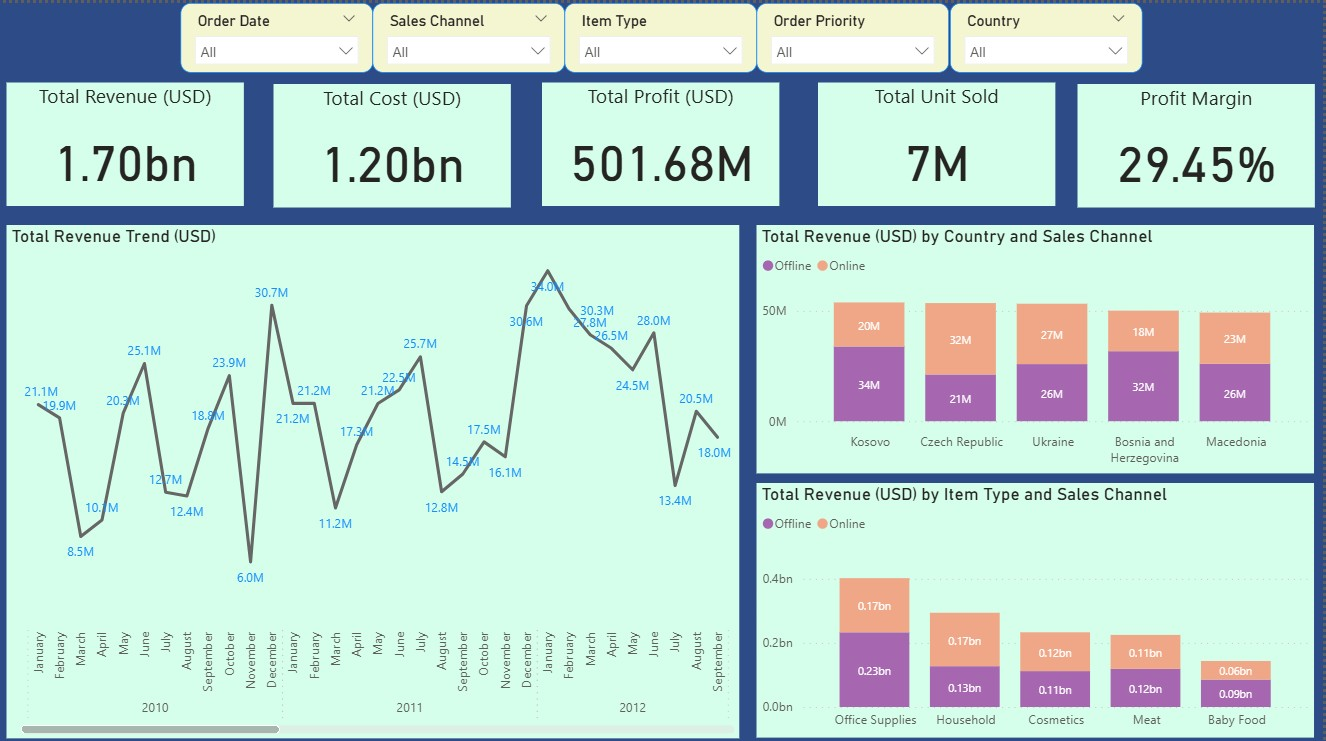

The dashboard page shown, as its layout file describes it:
{"tool":"powerbi","page":{"name":"Sales Overview","canvas":[1280,720],"ordinal":0},"visuals":[{"type":"lineChart","title":"Total Revenue Trend (USD)","fields":{"Category":["DateTable.Year","DateTable.Month Name"],"Y":["Sum(Europe Sales Records.Total Revenue)"]},"box":[7.8,214,708.1,496],"z":0},{"type":"slicer","fields":{"Values":["Europe Sales Records.Country"]},"box":[918.2,0,185.8,67.1],"z":1000},{"type":"slicer","fields":{"Values":["Europe Sales Records.Order Priority"]},"box":[732.4,0,185.8,67.1],"z":2000},{"type":"slicer","fields":{"Values":["DateTable.Date.Variation.Date Hierarchy.Year","DateTable.Date.Variation.Date Hierarchy.Month"]},"box":[176,0,185.8,67.1],"z":3000},{"type":"card","title":"Total Revenue (USD)","fields":{"Values":["Sum(Europe Sales Records.Total Revenue)"]},"box":[7.8,76.8,229.5,119.6],"z":4000},{"type":"card","title":"Total Cost (USD)","fields":{"Values":["Sum(Europe Sales Records.Total Cost)"]},"box":[264.6,77.8,229.5,119.6],"z":5000},{"type":"card","title":"Total Unit Sold","fields":{"Values":["Sum(Europe Sales Records.Units Sold)"]},"box":[790.8,76.8,229.5,119.6],"z":6000},{"type":"card","title":"Total Profit (USD)","fields":{"Values":["Sum(Europe Sales Records.Total Profit)"]},"box":[525.2,76.8,229.5,119.6],"z":7000},{"type":"card","title":"Profit Margin","fields":{"Values":["Measure Table.Margin (%)"]},"box":[1042.7,77.8,229.5,119.6],"z":8000},{"type":"slicer","fields":{"Values":["Europe Sales Records.Item Type"]},"box":[546.6,0,185.8,67.1],"z":9000},{"type":"slicer","fields":{"Values":["Europe Sales Records.Sales Channel"]},"box":[360.9,0,185.8,67.1],"z":10000},{"type":"columnChart","title":"Total Revenue (USD) by Country and Sales Channel","fields":{"Category":["Europe Sales Records.Country"],"Y":["Sum(Europe Sales Records.Total Revenue)"],"Series":["Europe Sales Records.Sales Channel"]},"box":[731.4,214,538.8,240.2],"z":11000},{"type":"columnChart","title":"Total Revenue (USD) by Item Type and Sales Channel","fields":{"Category":["Europe Sales Records.Item Type"],"Y":["Sum(Europe Sales Records.Total Revenue)"],"Series":["Europe Sales Records.Sales Channel"]},"box":[731.4,464,538.8,246.1],"z":12000}]}

Visuals, with their boxes in screenshot pixels (x1, y1, x2, y2), scaled from the page's 1280x720 canvas onto the 1326x741 screenshot:
"Total Revenue Trend (USD)" lineChart: <box>8,220,742,731</box>
slicer - Europe Sales Records.Country: <box>951,0,1144,69</box>
slicer - Europe Sales Records.Order Priority: <box>759,0,951,69</box>
slicer - DateTable.Date.Variation.Date Hierarchy.Year x DateTable.Date.Variation.Date Hierarchy.Month: <box>182,0,375,69</box>
"Total Revenue (USD)" card: <box>8,79,246,202</box>
"Total Cost (USD)" card: <box>274,80,512,203</box>
"Total Unit Sold" card: <box>819,79,1057,202</box>
"Total Profit (USD)" card: <box>544,79,782,202</box>
"Profit Margin" card: <box>1080,80,1318,203</box>
slicer - Europe Sales Records.Item Type: <box>566,0,759,69</box>
slicer - Europe Sales Records.Sales Channel: <box>374,0,566,69</box>
"Total Revenue (USD) by Country and Sales Channel" columnChart: <box>758,220,1316,467</box>
"Total Revenue (USD) by Item Type and Sales Channel" columnChart: <box>758,478,1316,731</box>
